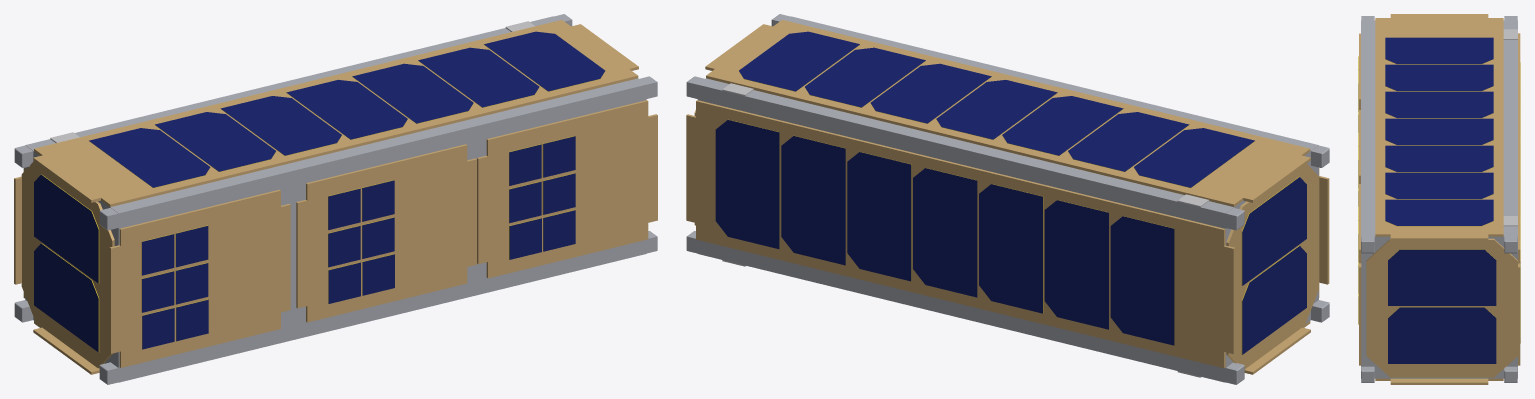
File: cubesat_3u.gltf
3 renders of one model, left to right at view 1: azimuth 30°, elevation 25°; view 2: azimuth 150°, elevation 25°; view 3: azimuth 270°, elevation 25°, orthographic. The views are drawn at different scales.
Parts seen in each view (by area): view 1: 3U_Cubesat, Plus-Y_Cells, Plus-Z1, Plus-Z3, Plus-Z2, Plus-Y, Minus-X_Cells, Plus-Z1_Cells, Plus-Z3_Cells, Plus-Z2_Cells, Minus-X, Minus-Z (+1 smaller); view 2: Minus-Z_Cells, Plus-Y_Cells, Minus-Z, 3U_Cubesat, Plus-Y, Minus-X_Cells, Minus-X, Plus-Z3, Minus-Y; view 3: Plus-Y_Cells, Plus-X_Cells, Plus-Y, 3U_Cubesat, Plus-X, Minus-Z, Minus-Y, Plus-Z1, Plus-Z3, Plus-Z2.
Part boxes in pixels (bbox=[...]): 3U_Cubesat: bbox=[14, 14, 657, 384]; Plus-Y_Cells: bbox=[89, 31, 605, 187]; Plus-Z1: bbox=[477, 100, 657, 278]; Plus-Z3: bbox=[109, 189, 290, 367]; Plus-Z2: bbox=[296, 144, 476, 322]; Plus-Y: bbox=[33, 20, 638, 206]; Minus-X_Cells: bbox=[34, 174, 98, 352]; Plus-Z1_Cells: bbox=[509, 136, 575, 259]; Plus-Z3_Cells: bbox=[142, 226, 208, 349]; Plus-Z2_Cells: bbox=[328, 180, 394, 303]; Minus-X: bbox=[21, 161, 114, 367]; Minus-Z: bbox=[14, 167, 25, 298]; Minus-Z_Cells: bbox=[715, 120, 1174, 345]; Plus-Y_Cells: bbox=[739, 31, 1254, 187]; Minus-Z: bbox=[686, 100, 1235, 368]; 3U_Cubesat: bbox=[686, 14, 1329, 384]; Plus-Y: bbox=[705, 20, 1310, 207]; Minus-X_Cells: bbox=[1242, 177, 1306, 354]; Minus-X: bbox=[1226, 163, 1319, 368]; Plus-Z3: bbox=[1319, 168, 1329, 297]; Minus-Y: bbox=[722, 260, 1310, 377]; Plus-Y_Cells: bbox=[1385, 37, 1493, 225]; Plus-X_Cells: bbox=[1388, 249, 1496, 363]; Plus-Y: bbox=[1375, 14, 1517, 240]; 3U_Cubesat: bbox=[1361, 16, 1517, 382]; Plus-X: bbox=[1366, 238, 1518, 377]; Minus-Z: bbox=[1518, 33, 1520, 365]; Minus-Y: bbox=[1375, 378, 1503, 384]; Plus-Z1: bbox=[1358, 184, 1361, 365]; Plus-Z3: bbox=[1358, 33, 1360, 132]; Plus-Z2: bbox=[1358, 110, 1360, 206].
Bounding box in the file's own units: 0.3405 × 0.1036 × 0.1036.
